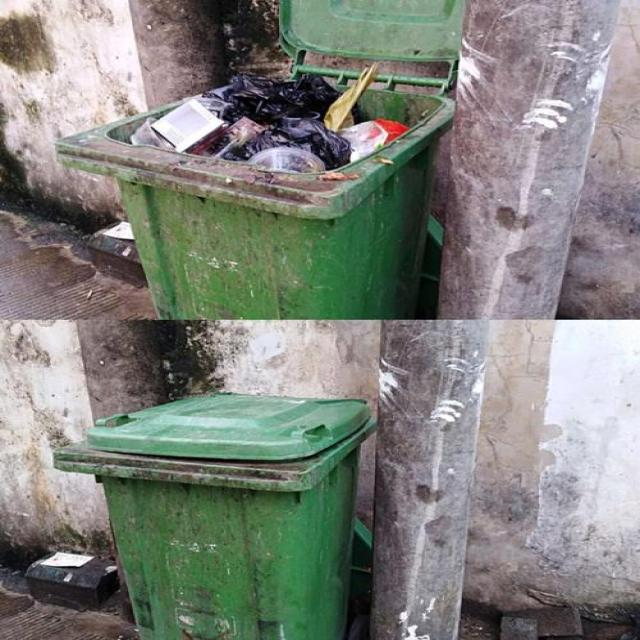garbage_bin: (51, 393, 374, 639)
overflow: (55, 66, 454, 318)
